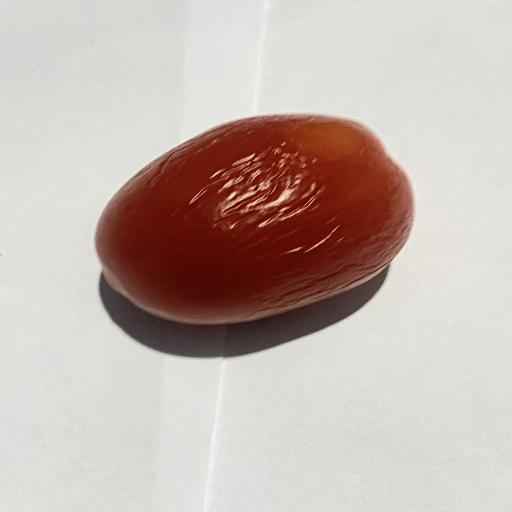spoiled: (95, 114, 413, 325)
